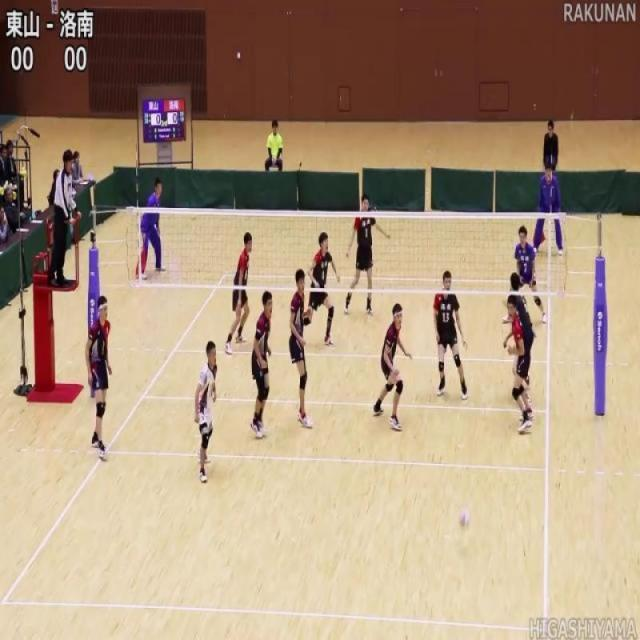volleyball: (458, 506, 472, 531)
